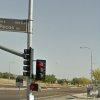Traffic light: (16, 42, 54, 86)
